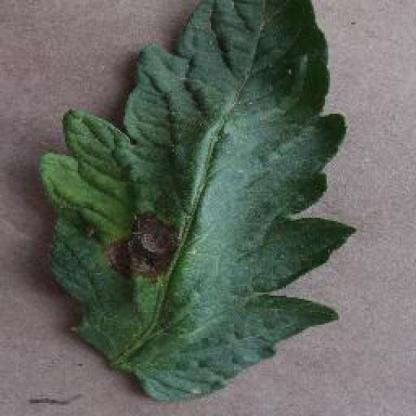Tomato_Blight: (40, 0, 356, 397)
